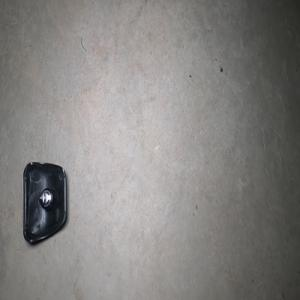LuggagePart: (22, 160, 67, 245)
